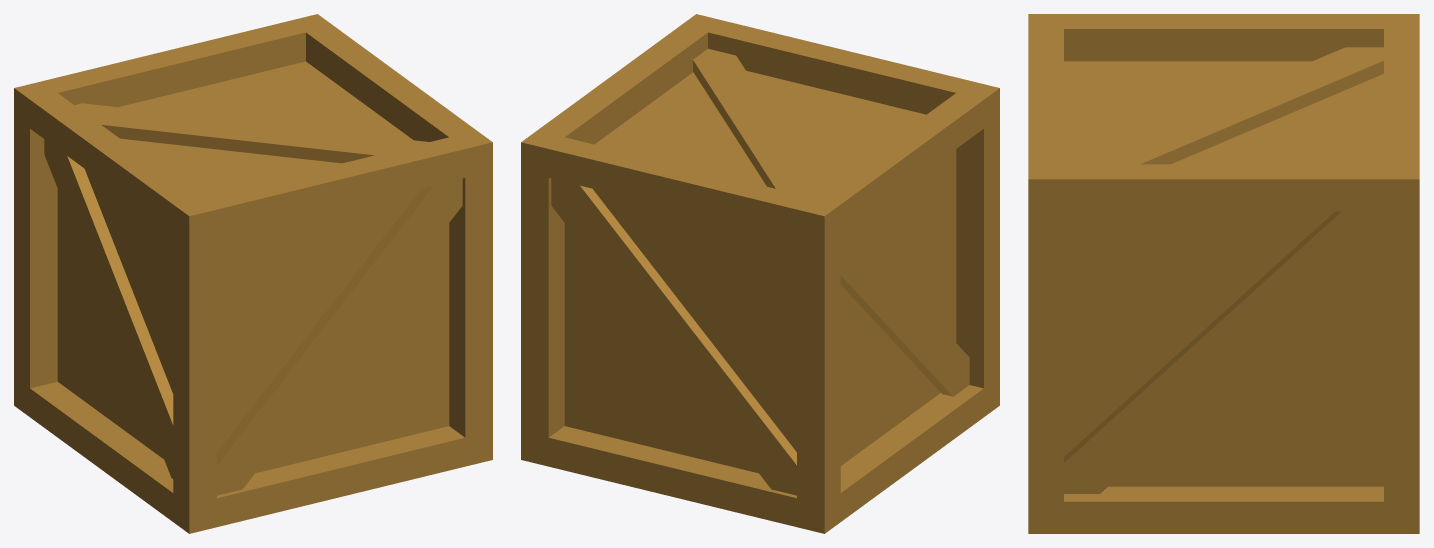
Rendered from BOX_Asset.fbx.
The picture shows the model from 3 angles, left to right: view 1: azimuth 30°, elevation 25°; view 2: azimuth 150°, elevation 25°; view 3: azimuth 270°, elevation 25°; orthographic projection. The views are drawn at different scales.
Parts seen in each view (by area): view 1: Crate.001; view 2: Crate.001; view 3: Crate.001.
Part boxes in pixels (<box>): Crate.001: <box>14,14,492,533</box>; Crate.001: <box>521,14,999,533</box>; Crate.001: <box>1028,14,1419,533</box>.
Bounding box in the file's own units: 200 × 200 × 200.
